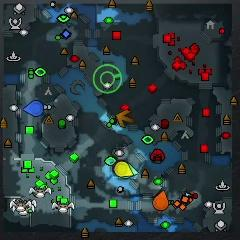p1: (24, 100, 44, 117)
p2: (127, 161, 137, 178)
p4: (115, 160, 135, 177)
p5: (152, 191, 168, 211)
x5: (116, 110, 133, 128)
